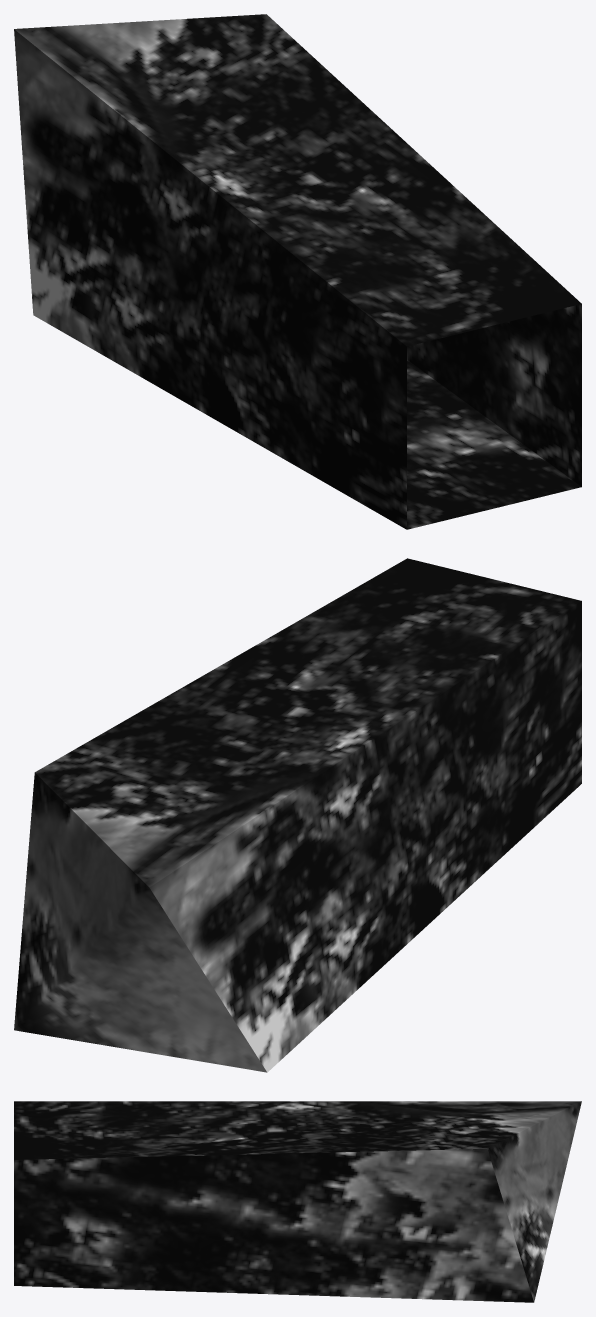
File: MEP_Crystal_05.fbx
3 renders of one model, top to bottom at view 1: azimuth 30°, elevation 25°; view 2: azimuth 150°, elevation 25°; view 3: azimuth 270°, elevation 25°, orthographic. The views are drawn at different scales.
Visible parts, largest first — view 1: MEP_Crystal_05; view 2: MEP_Crystal_05; view 3: MEP_Crystal_05.
Part boxes in pixels (left/top/right/bottom): MEP_Crystal_05: left=14, top=14, right=581, bottom=529; MEP_Crystal_05: left=14, top=558, right=581, bottom=1072; MEP_Crystal_05: left=14, top=1101, right=581, bottom=1302.
Size of the model in its own units: 1.03 by 1.03 by 3.15.
1 material, 1 textured.
